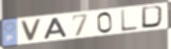0: (96, 11, 113, 34)
7: (71, 13, 90, 37)
A: (43, 17, 69, 40)
D: (141, 5, 167, 29)
L: (120, 9, 139, 33)
V: (19, 18, 43, 42)
